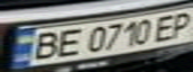0: (133, 16, 160, 46), (84, 24, 109, 53)
1: (121, 18, 142, 47)
7: (103, 20, 127, 51)
B: (24, 29, 63, 62)
E: (51, 26, 84, 59), (151, 11, 184, 42)
P: (166, 9, 193, 39)
